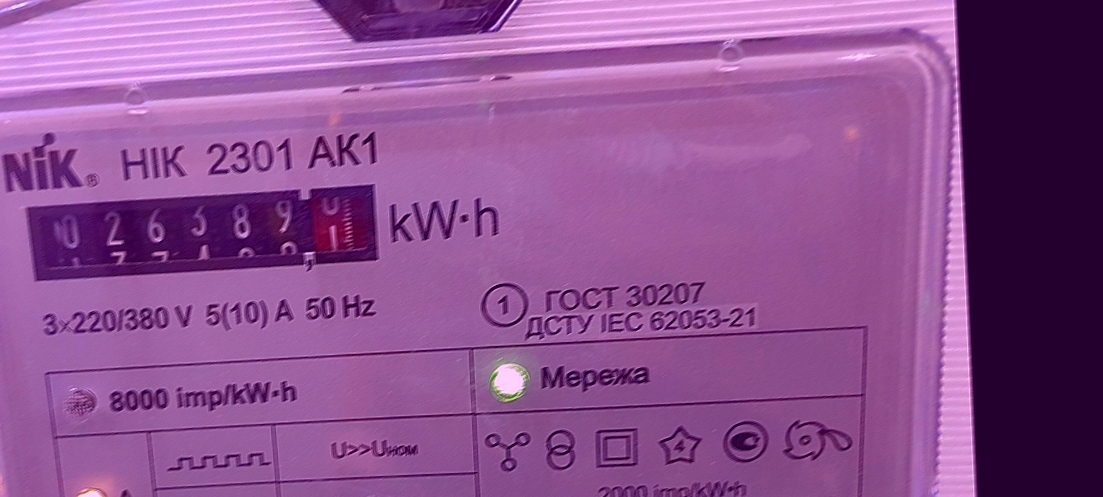0: (57, 210, 82, 250), (321, 194, 340, 216)
1: (326, 221, 340, 253)
2: (101, 208, 126, 247)
3: (188, 203, 207, 238)
6: (145, 205, 165, 244)
8: (231, 201, 253, 240)
9: (274, 198, 293, 233)
screen: (11, 172, 394, 293)
